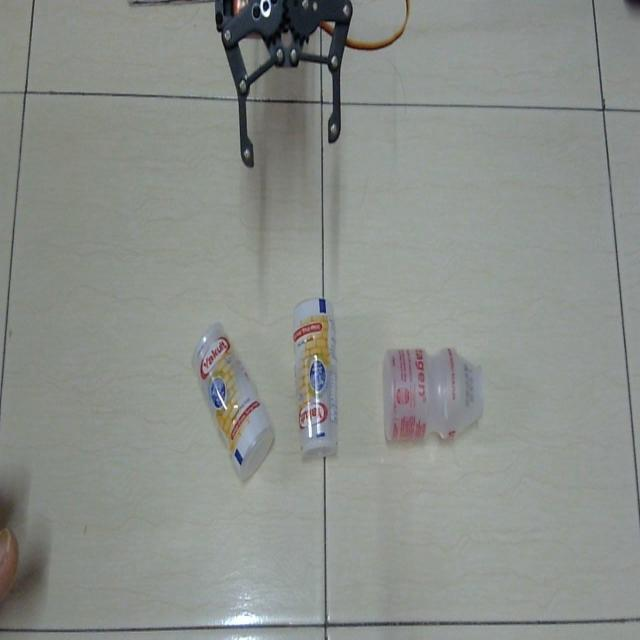Plastic-laydown_0-rotation: (290, 290, 342, 466)
Plastic-laydown_45left-rotation: (189, 319, 282, 486)
Plastic-laydown_90-rotation: (380, 341, 490, 465)
